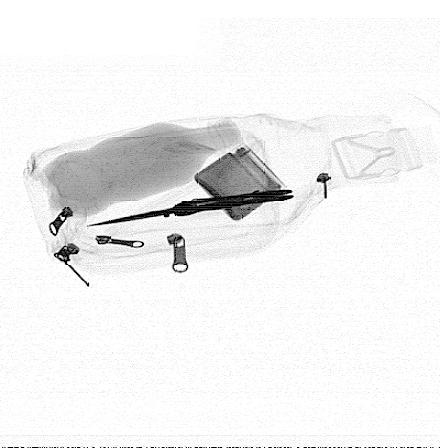Knife: (84, 189, 295, 227)
